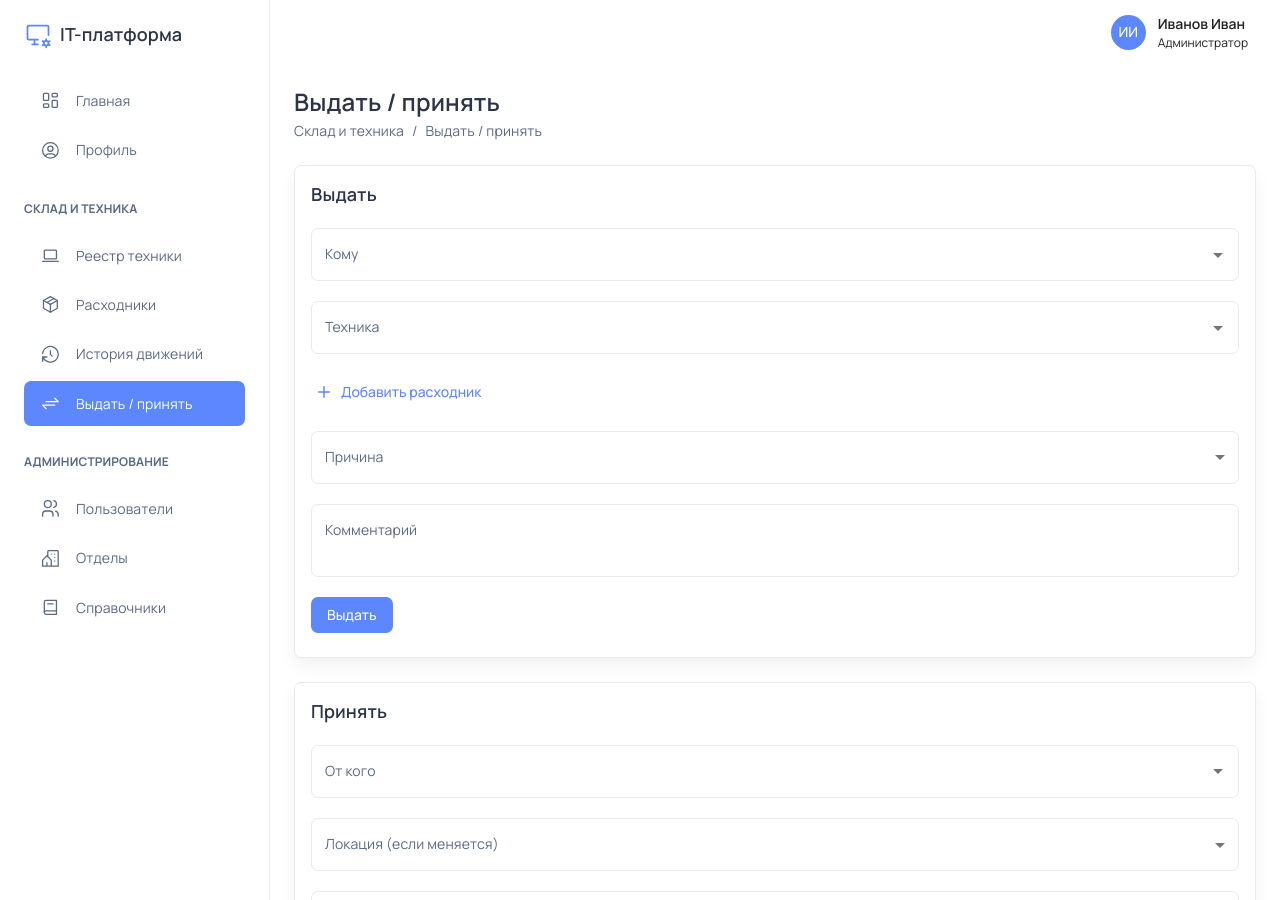
Test: приём: после очистки «От кого» техника прежнего сотрудника пропадает со страницы
Click the dropdown labelled "От кого".
click(760, 771)  # box [320, 754, 1200, 789]
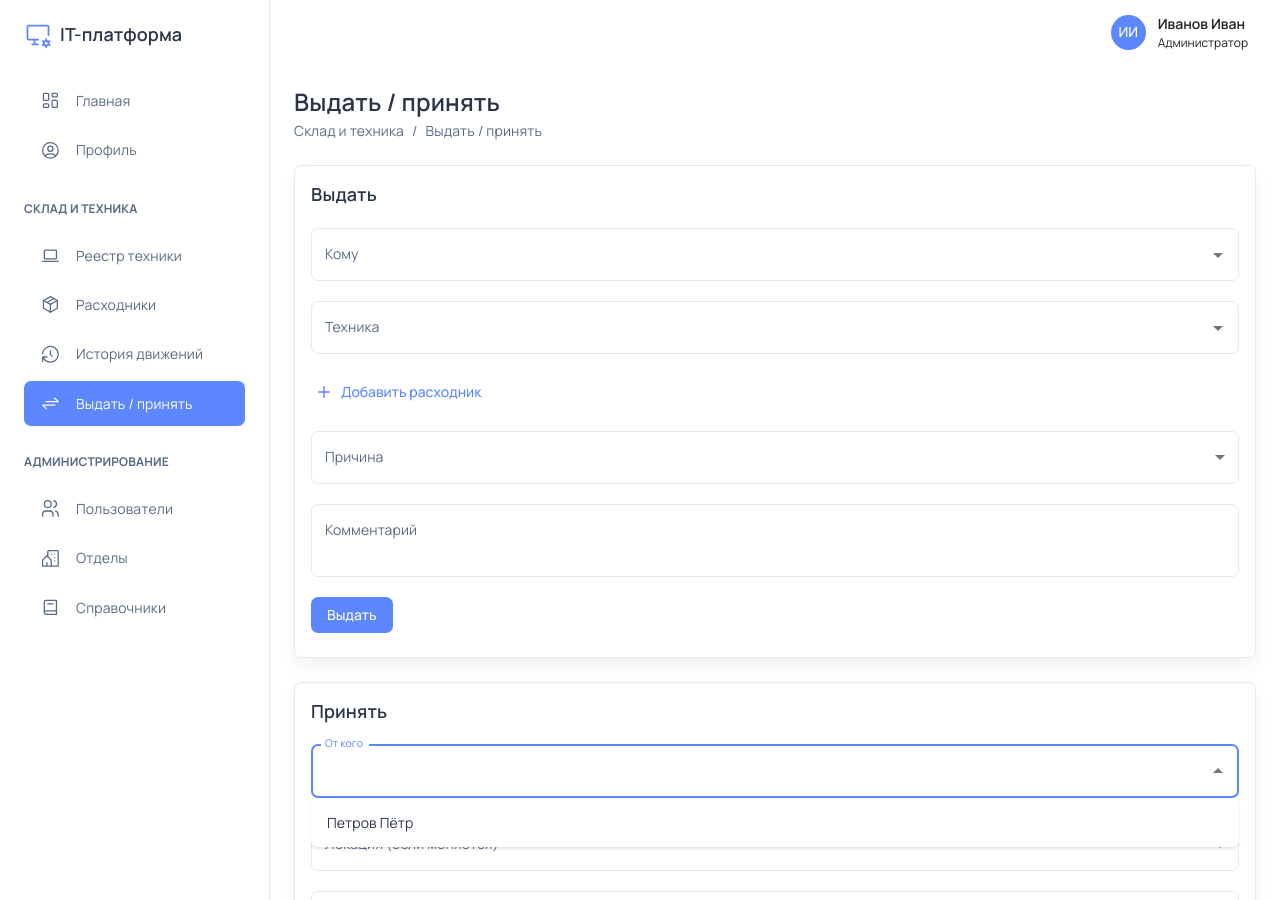
Click the option "Петров Пётр".
click(370, 822)  # box [327, 813, 413, 832]
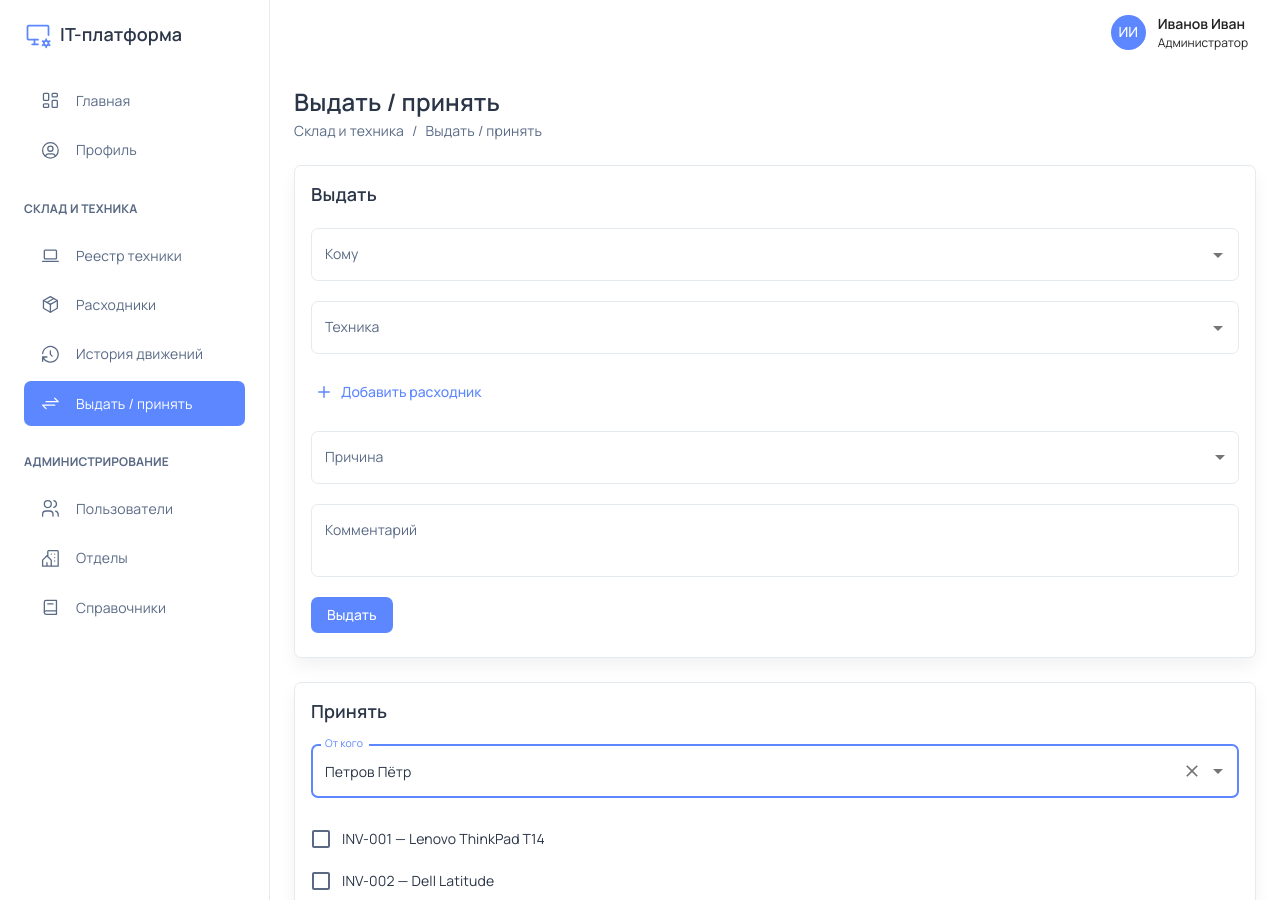
Expected: the checkbox labelled "INV-002 — Dell Latitude" is shown, [309, 869, 494, 893]
Click the button named "Очистить".
click(1192, 772)  # box [1178, 758, 1206, 786]
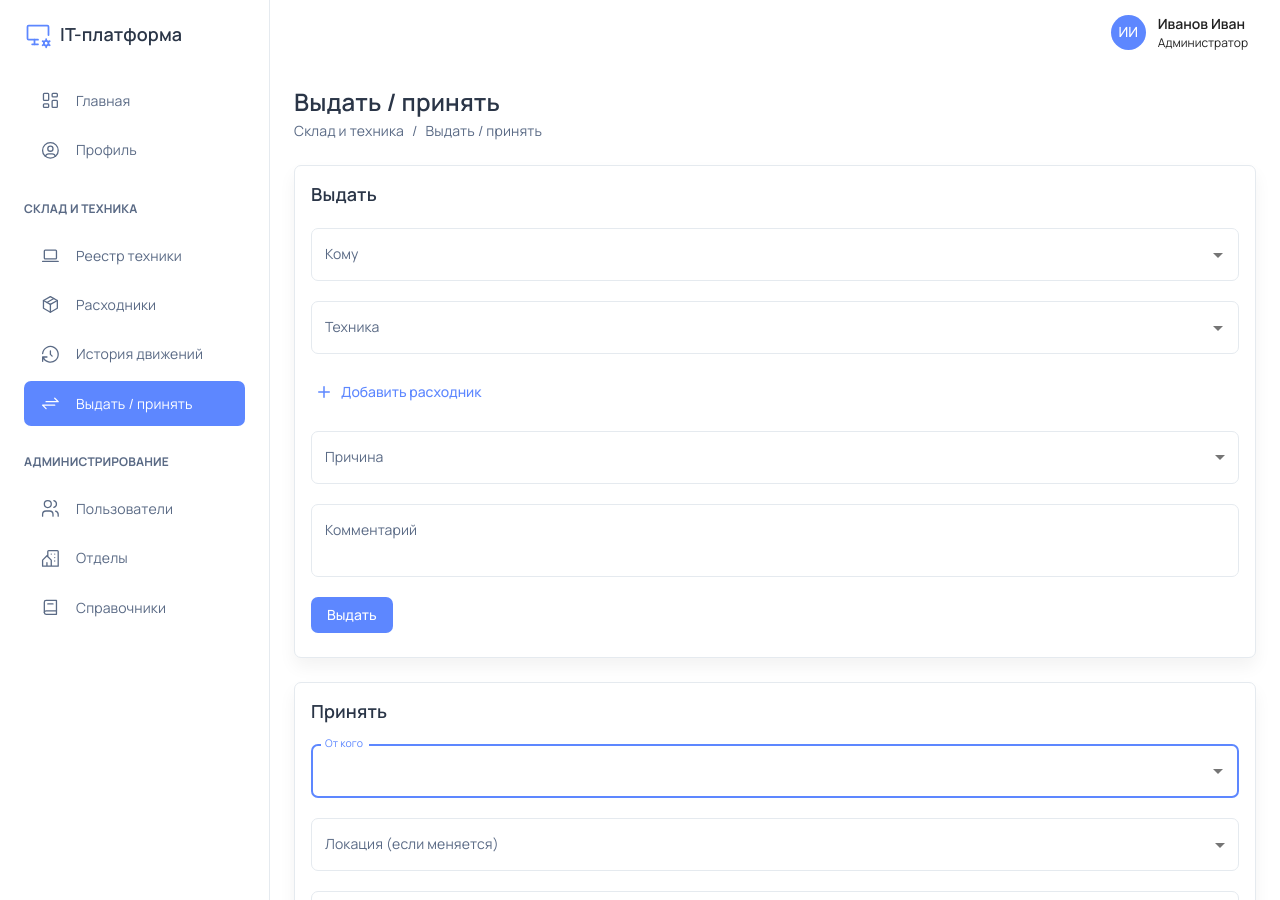
Expected: the text labelled "INV-002 — Dell Latitude" is gone
